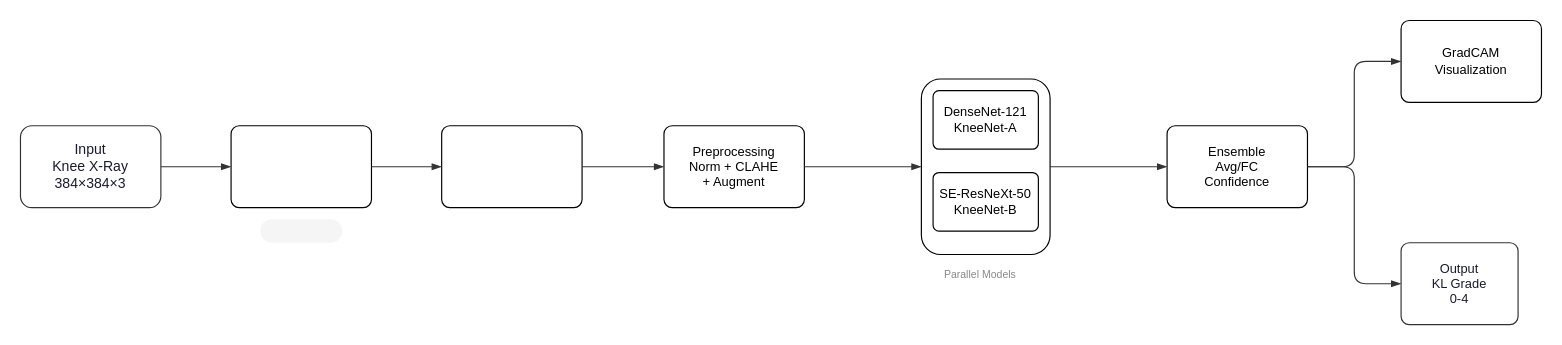
Some shapes in this 1562 by 345 pixel diagram are drawn without their labels. The shapes that lost their labels are listed below. From the top down, each one's centre as x and y in pixels, then its label:
At (x=300, y=166): "YOLOv8 ROI Detection".
At (x=511, y=166): "ROI Crop & Resize 384×384×3".
At (x=301, y=230): "ROI bbox".
